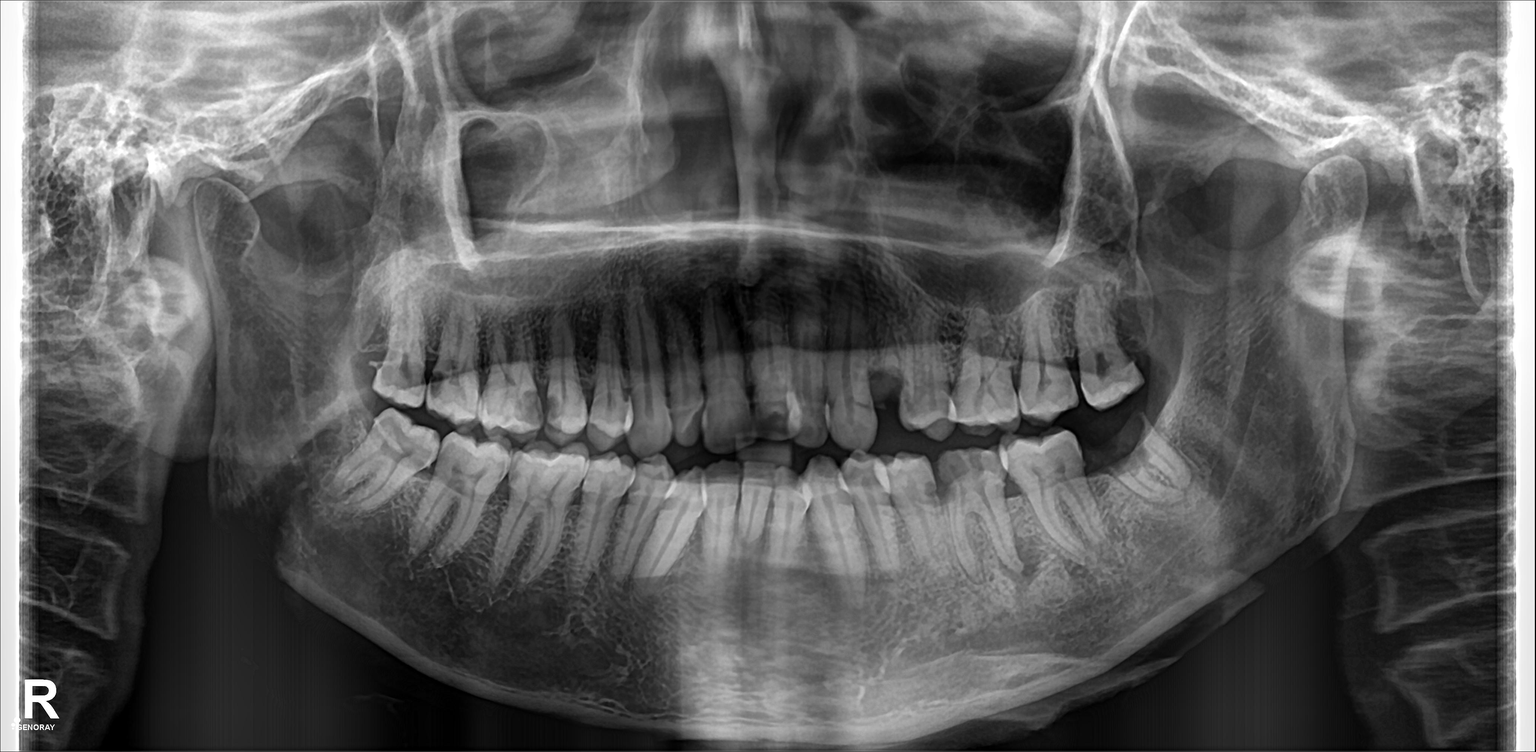Dental Caries: (1102, 441, 1146, 478), (752, 404, 799, 438), (866, 372, 903, 405), (514, 391, 544, 428), (540, 396, 565, 423)
Impacted Third Molar: (1101, 423, 1192, 502)
